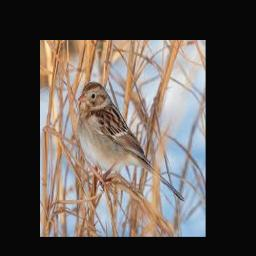Sparrow: (78, 81, 184, 202)
